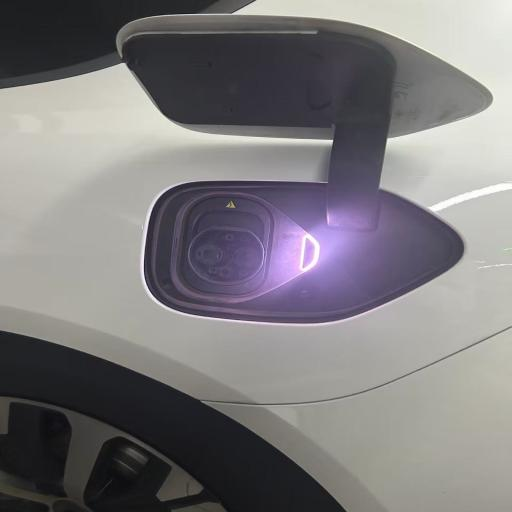DC_hole: (233, 247, 260, 268), (196, 244, 222, 264)
PE: (218, 268, 233, 278)
charging_port: (187, 225, 264, 284)
